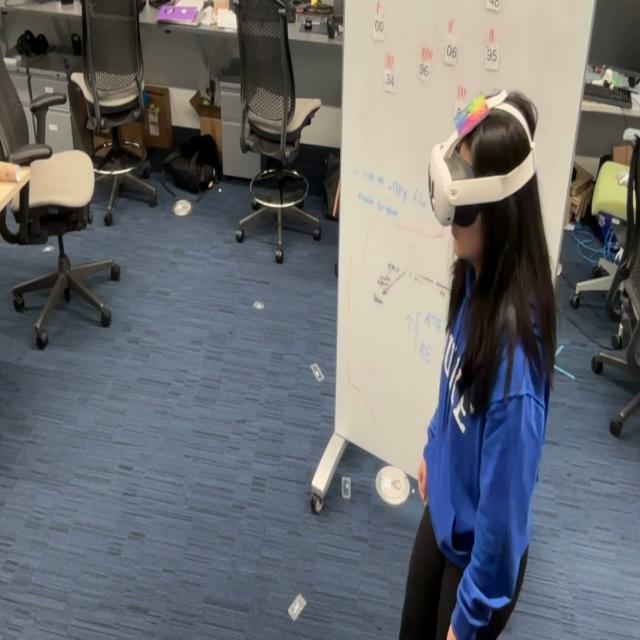Headset: (428, 91, 537, 227)
Marker: (446, 91, 494, 141)
